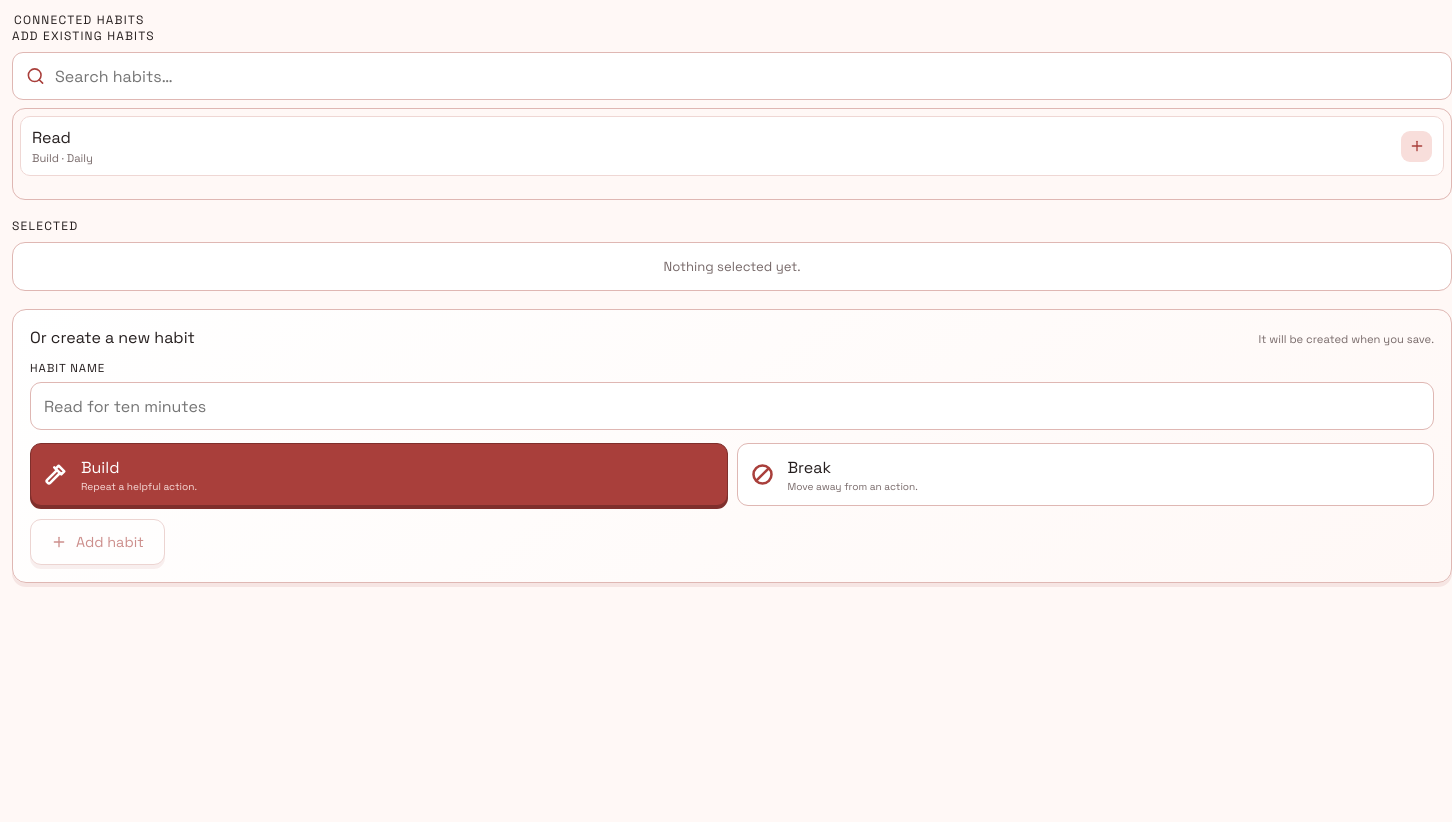
Test: relation composer staging › stages an existing habit and multiple new habits without requests
expect the option "Read Build · daily" is shown: met, box [20,116,1444,176]
Type "read" into the field named "Search connected habits". click: (746, 76)
box: [55,53,1438,99]
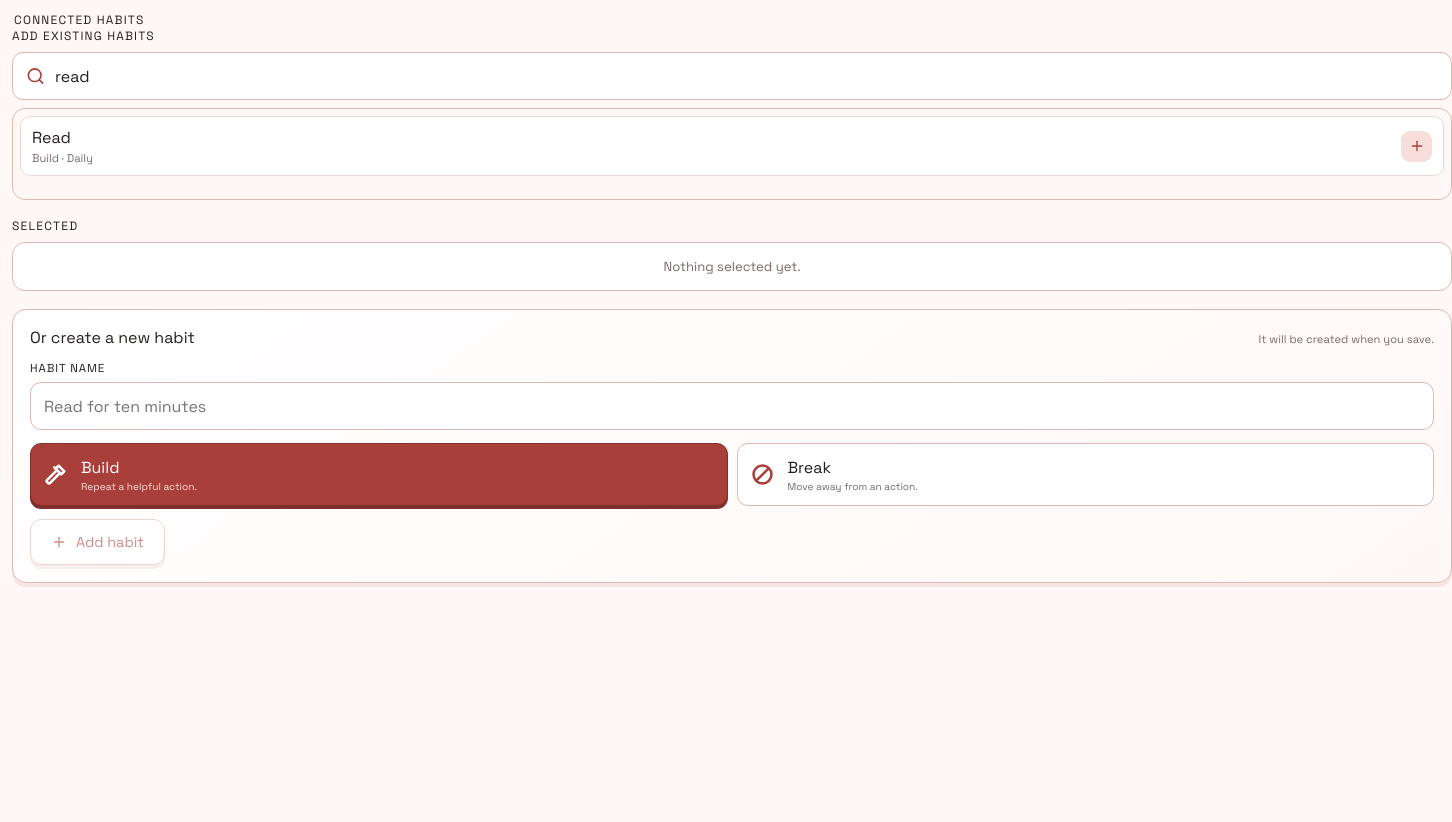
Click the option "Read Build · daily". click: (51, 138)
box: [20,116,1444,176]
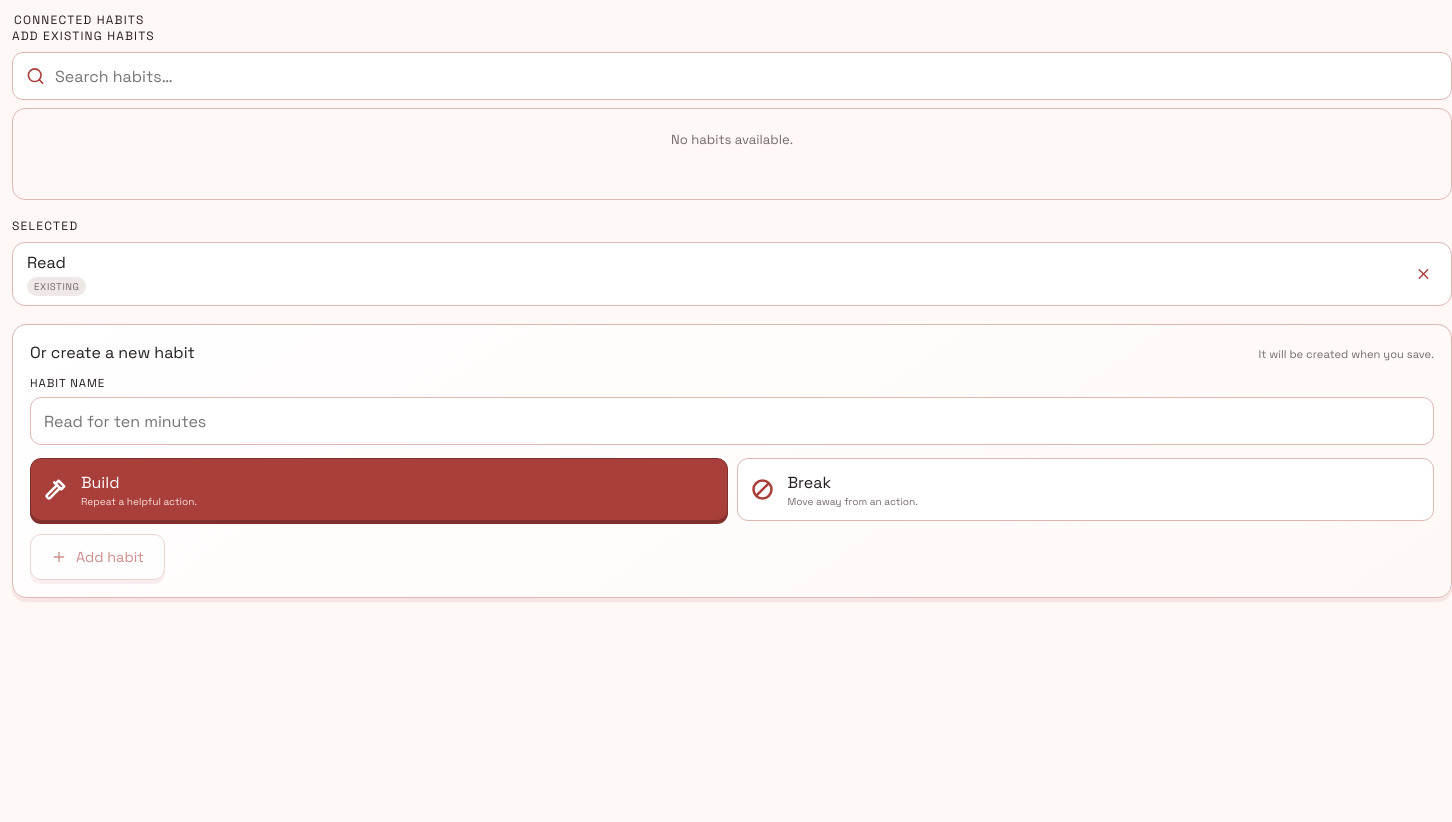
Type "Walk" into the field named "New habit name". click: (732, 421)
box: [30,397,1434,445]
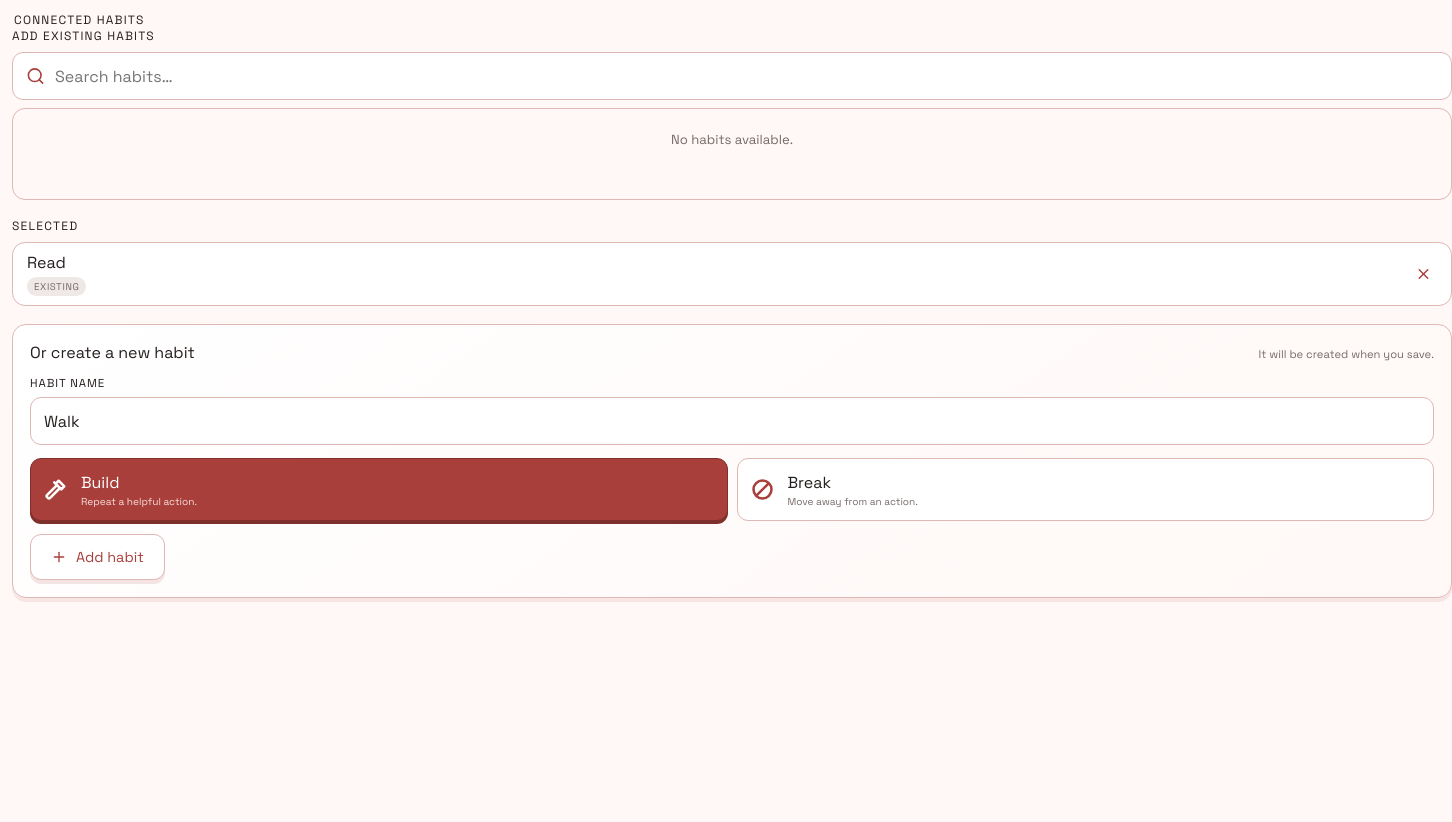
Press Enter in the field named "New habit name", box [30,397,1434,445]
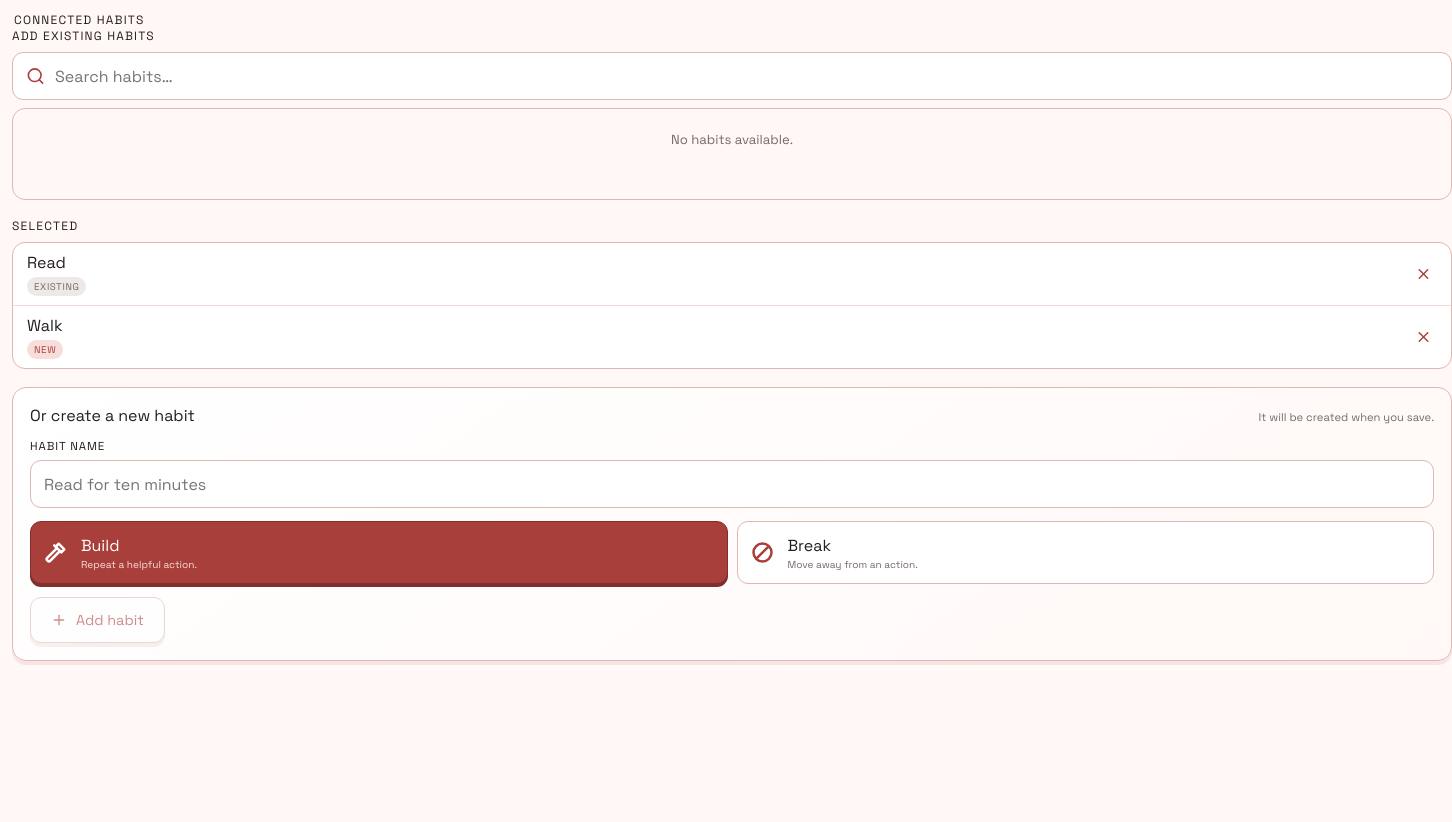
Type "Journal" into the field named "New habit name". click: (732, 484)
box: [30,460,1434,508]
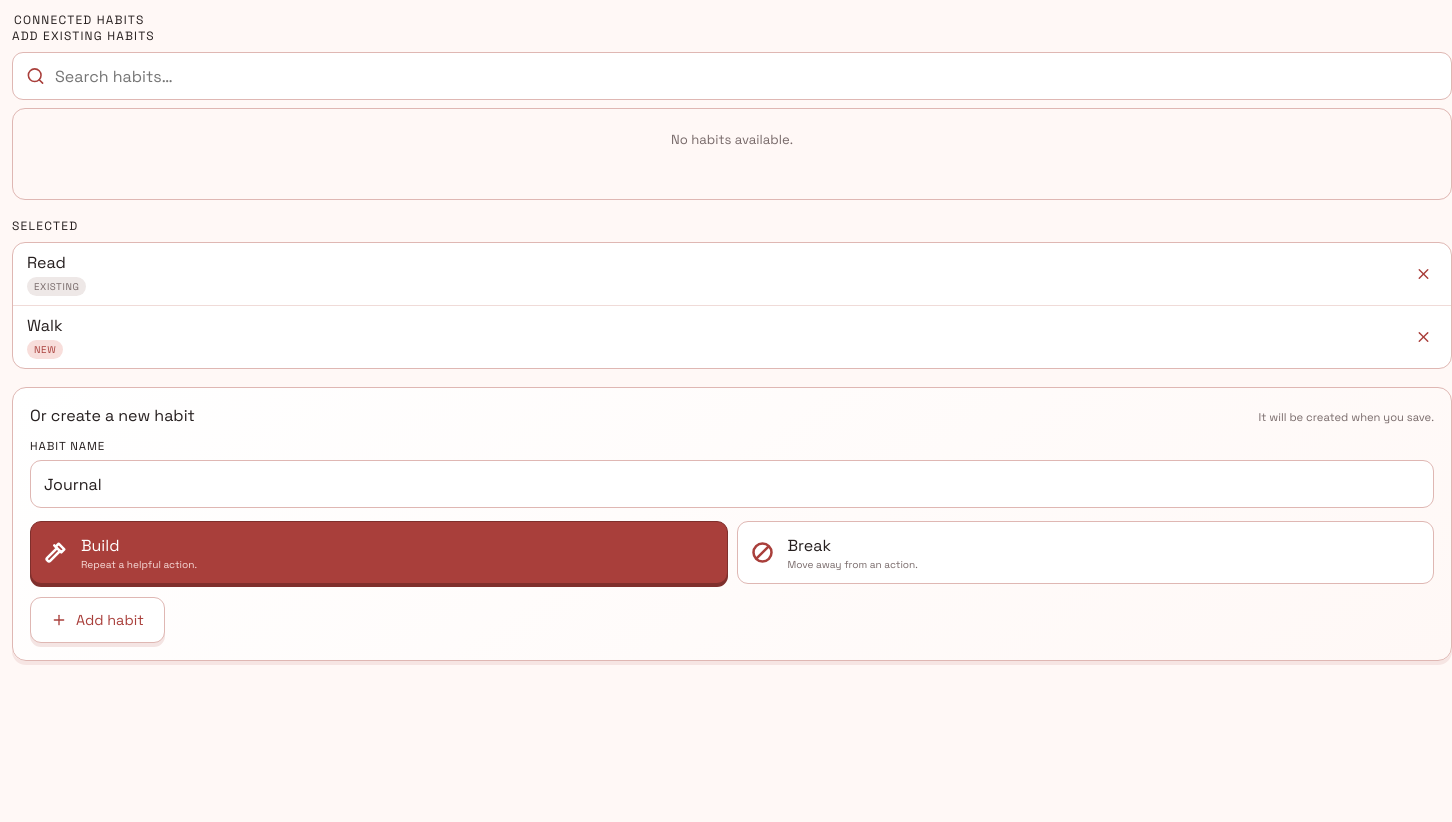
Click the button "Add habit". click: (97, 620)
box: [30,597,165,643]
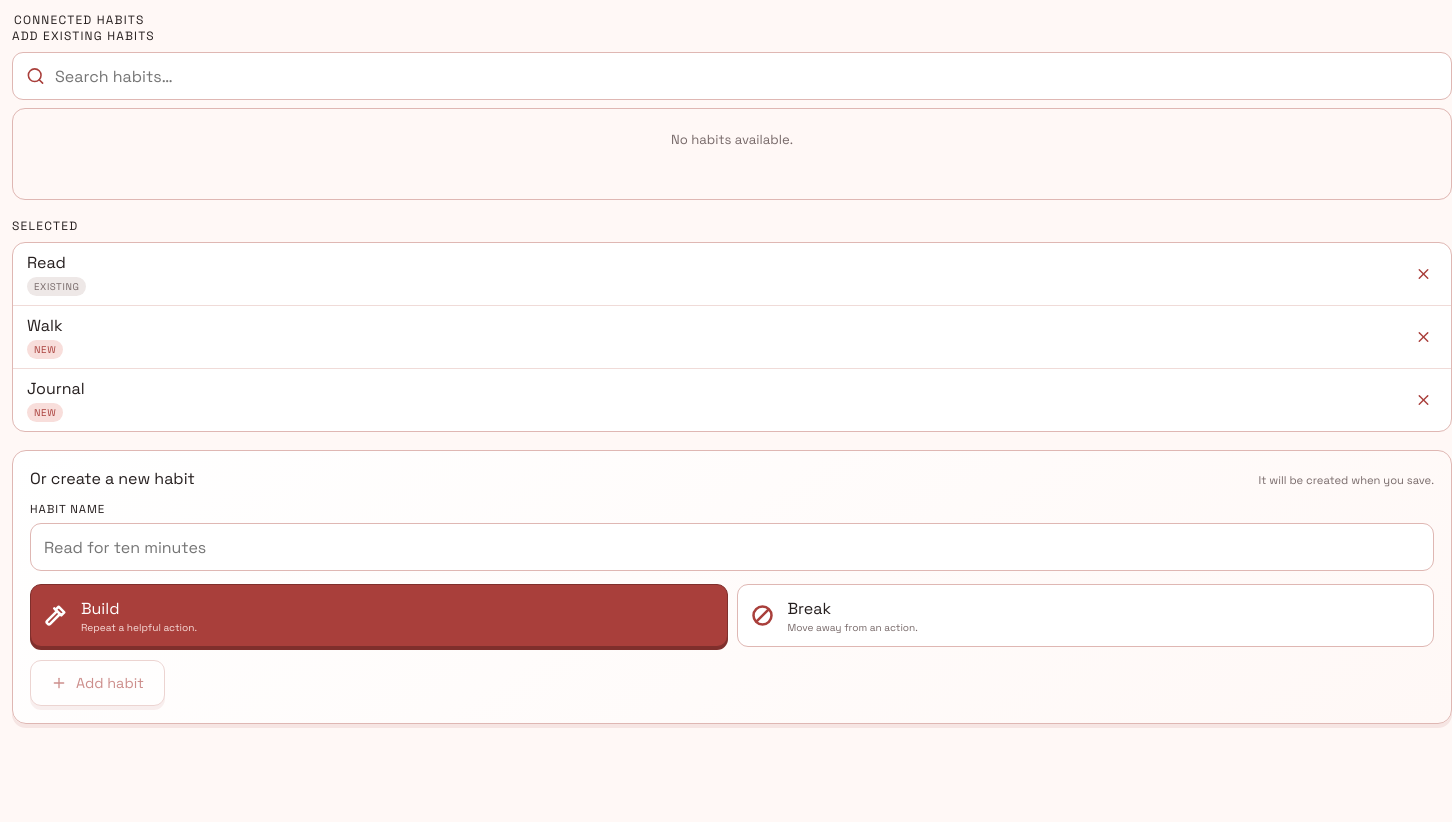
expect the text "Read" is shown: met, box [27,252,66,273]
expect the text "Walk" is shown: met, box [27,315,63,336]
expect the text "Journal" is shown: met, box [27,378,85,399]
